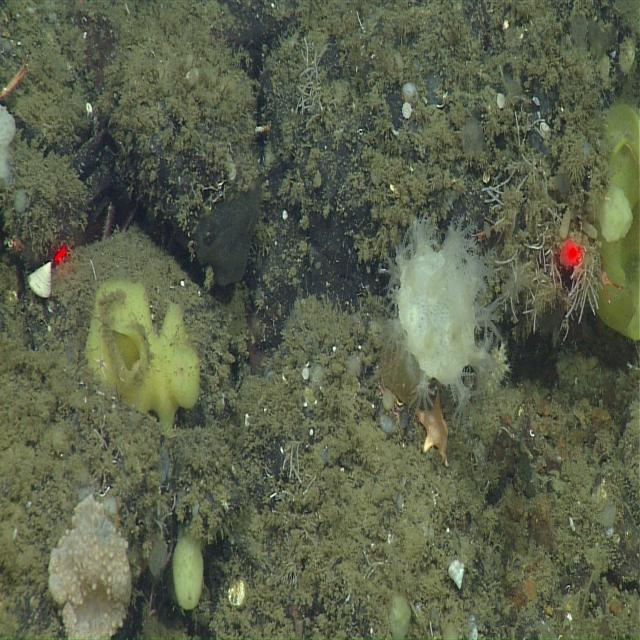Brittle Star: (90, 338, 112, 384)
Not Brittle Star: (386, 202, 513, 419), (82, 268, 207, 438), (594, 93, 639, 350), (169, 526, 207, 615), (414, 387, 452, 467), (26, 259, 55, 303)
